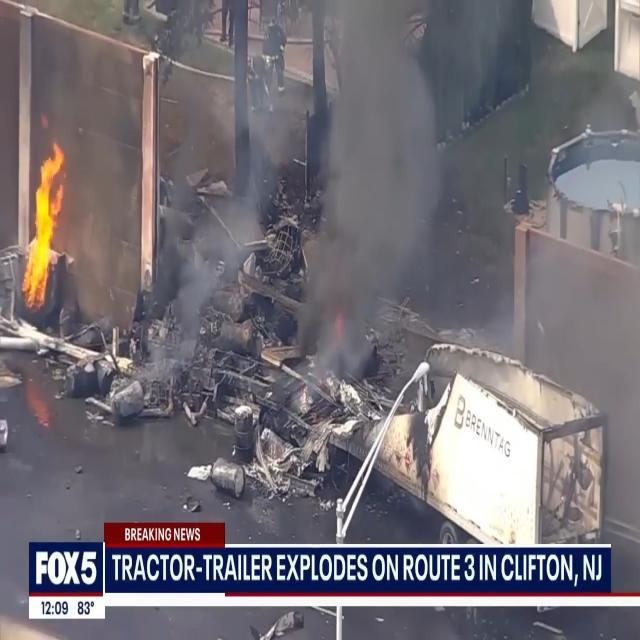fire: (20, 130, 74, 314)
